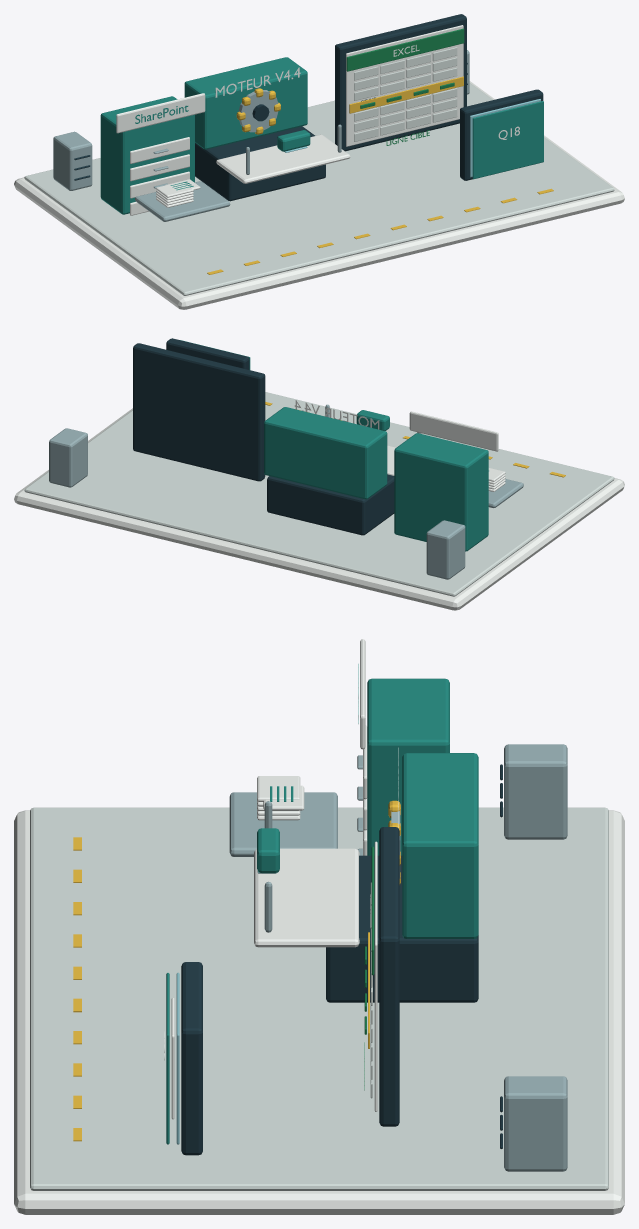
Rendered from moteur44.glb.
3 renders of one model, top to bottom at view 1: azimuth 30°, elevation 25°; view 2: azimuth 150°, elevation 25°; view 3: azimuth 270°, elevation 25°, orthographic. The views are drawn at different scales.
Visible parts, largest first — view 1: StaticWorkshop_1, StaticWorkshop_0, Engine housing, Cabinet body, Closed archive cover, StaticWorkshop_3, Excel screen, Engine pedestal, Excel display frame, Excel title, Q18 display frame, Target row highlight (+8 smaller); view 2: StaticWorkshop_1, Excel display frame, StaticWorkshop_0, Cabinet body, Engine housing, Engine pedestal, StaticWorkshop_3, Q18 display frame, Scanning carriage, Label MOTEUR V4.4; view 3: StaticWorkshop_1, StaticWorkshop_0, StaticWorkshop_3, Engine housing, Engine pedestal, Cabinet body, Excel display frame, Q18 display frame, StaticWorkshop_6, Excel screen, Scanning carriage.
Part boxes in pixels (bbox=[...]): StaticWorkshop_1: bbox=[24, 83, 614, 295]; StaticWorkshop_0: bbox=[14, 81, 624, 309]; Engine housing: bbox=[184, 57, 307, 149]; Cabinet body: bbox=[100, 96, 194, 214]; Closed archive cover: bbox=[472, 101, 543, 179]; StaticWorkshop_3: bbox=[53, 50, 469, 221]; Excel screen: bbox=[346, 25, 463, 146]; Engine pedestal: bbox=[195, 126, 325, 201]; Excel display frame: bbox=[335, 14, 466, 151]; Excel title: bbox=[346, 28, 464, 71]; Q18 display frame: bbox=[460, 89, 543, 180]; Target row highlight: bbox=[349, 76, 463, 113]; StaticWorkshop_1: bbox=[24, 392, 614, 596]; Excel display frame: bbox=[133, 343, 265, 481]; StaticWorkshop_0: bbox=[14, 408, 624, 610]; Cabinet body: bbox=[394, 433, 488, 551]; Engine housing: bbox=[264, 407, 387, 499]; Engine pedestal: bbox=[267, 474, 394, 535]; StaticWorkshop_3: bbox=[49, 404, 523, 579]; Q18 display frame: bbox=[166, 338, 249, 369]; Scanning carriage: bbox=[356, 410, 389, 430]; Label MOTEUR V4.4: bbox=[294, 400, 379, 429]; StaticWorkshop_1: bbox=[30, 807, 608, 1190]; StaticWorkshop_0: bbox=[14, 639, 624, 1214]; StaticWorkshop_3: bbox=[229, 744, 567, 1171]; Engine housing: bbox=[402, 753, 478, 938]; Engine pedestal: bbox=[326, 855, 478, 1002]; Cabinet body: bbox=[367, 678, 449, 855]; Excel display frame: bbox=[379, 827, 399, 1126]; Q18 display frame: bbox=[181, 962, 202, 1155]; StaticWorkshop_6: bbox=[73, 837, 81, 1141]; Excel screen: bbox=[374, 841, 377, 1111]; Scanning carriage: bbox=[257, 828, 279, 873].
Bounding box in the file's own units: 7.3 × 1.99 × 4.8.
